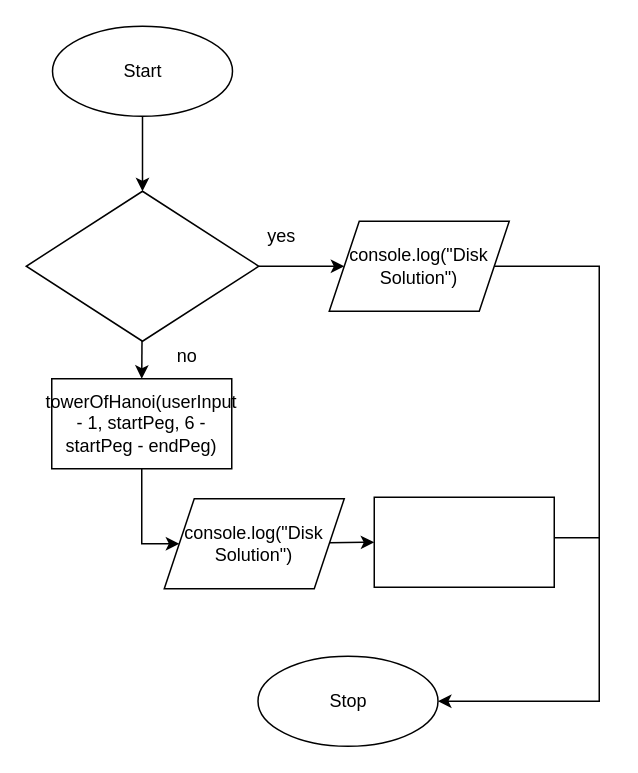
This 638x773 diagram has some shape labels left out. Here are the shapes that lost their labels. From the top down, the centre of each, then its label:
point 142,265: if (userInput === 1)
point 463,541: towerOfHanoi(userInput - 1, startPeg, 6 - endPeg, endPeg)
